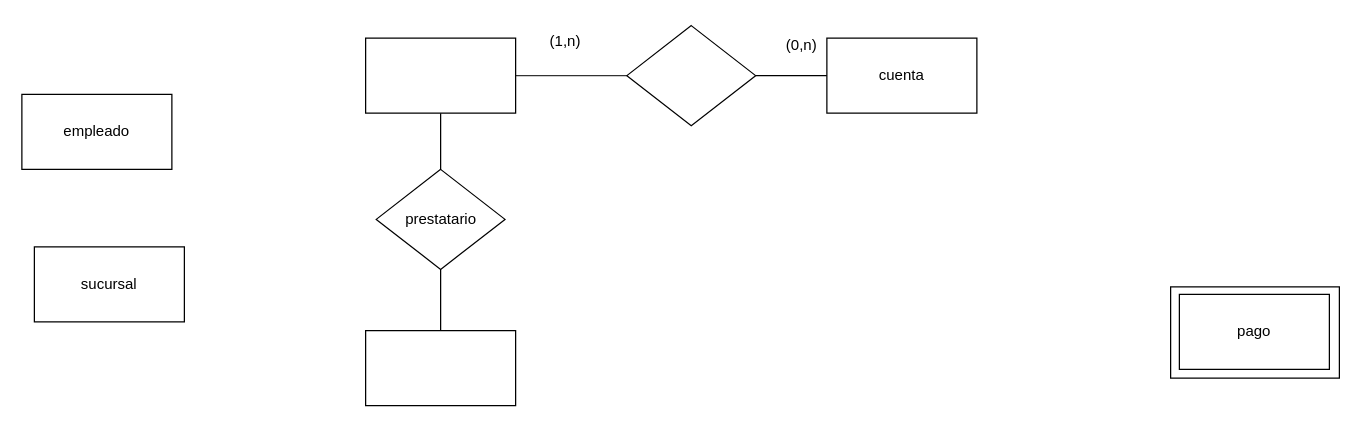
Image size: 1361x428. Some labels were removed from this diagram. Here are the shapes that lost their labels. From the top down, the centre of each, then its label:
At [440,75]: "cliente".
At [691,75]: "impositor".
At [440,367]: "prestamo".
